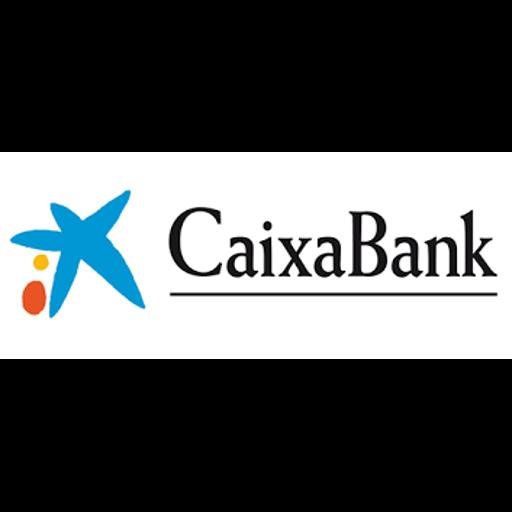CaixaBank: (0, 152, 512, 359)
